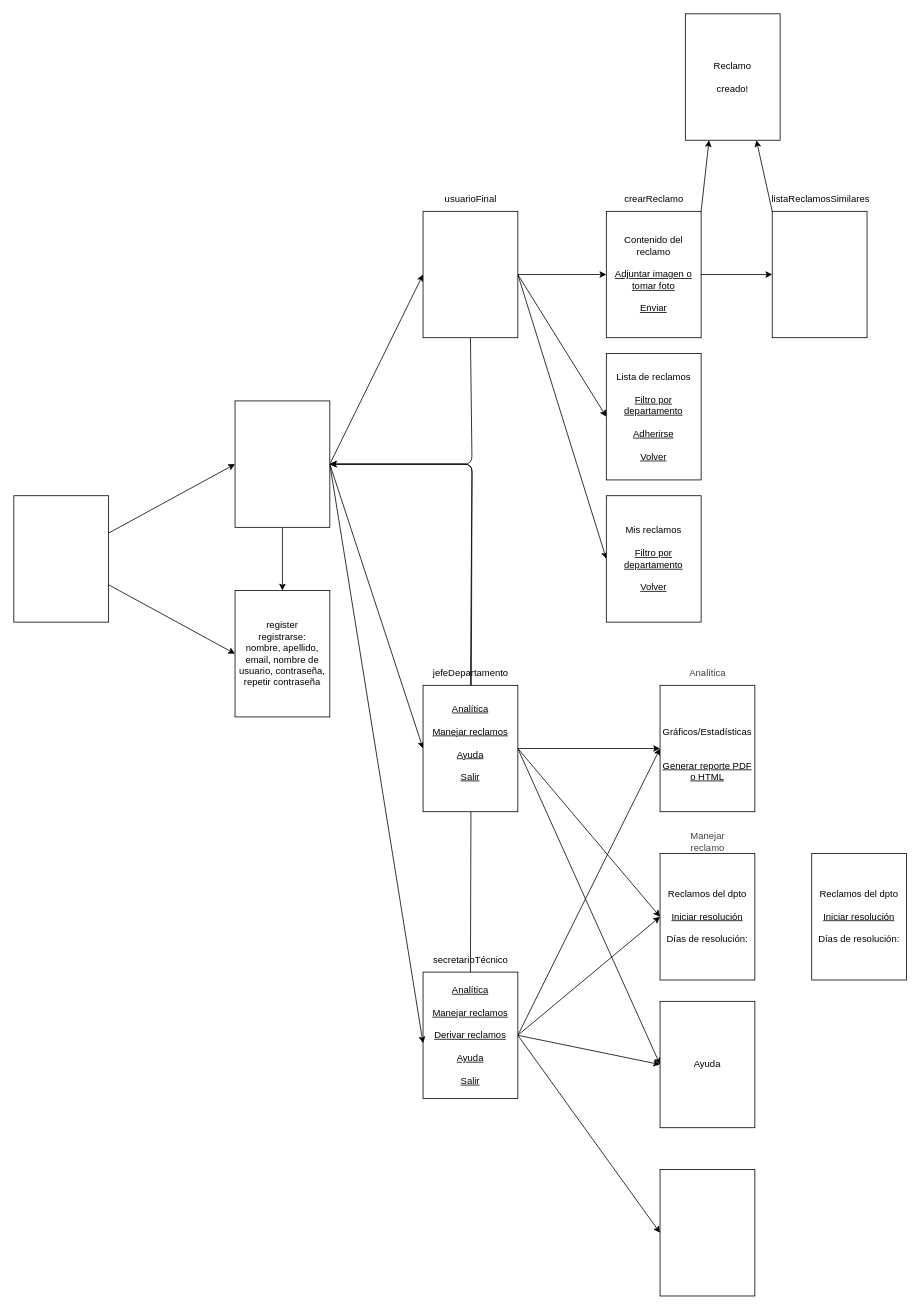
The diagram is 920 pixels wide and 1310 high, and some of its shapes have lost their labels. Here are the shapes that lost their labels. From the top down, the centre of each, then its label:
At pixel 470 274: "Bienvenid@! Crear nuevo reclamo Listar reclamos Ver mis reclamos Salir".
At pixel 819 274: "Adherirse a reclamo existente Crear nuevo".
At pixel 282 463: "login Inicio de sesión Usuario: Contraseña: Registrate aquí".
At pixel 61 558: "inicio INICIAR SESION REGISTRATE".
At pixel 707 1232: "Derivar reclamo".
